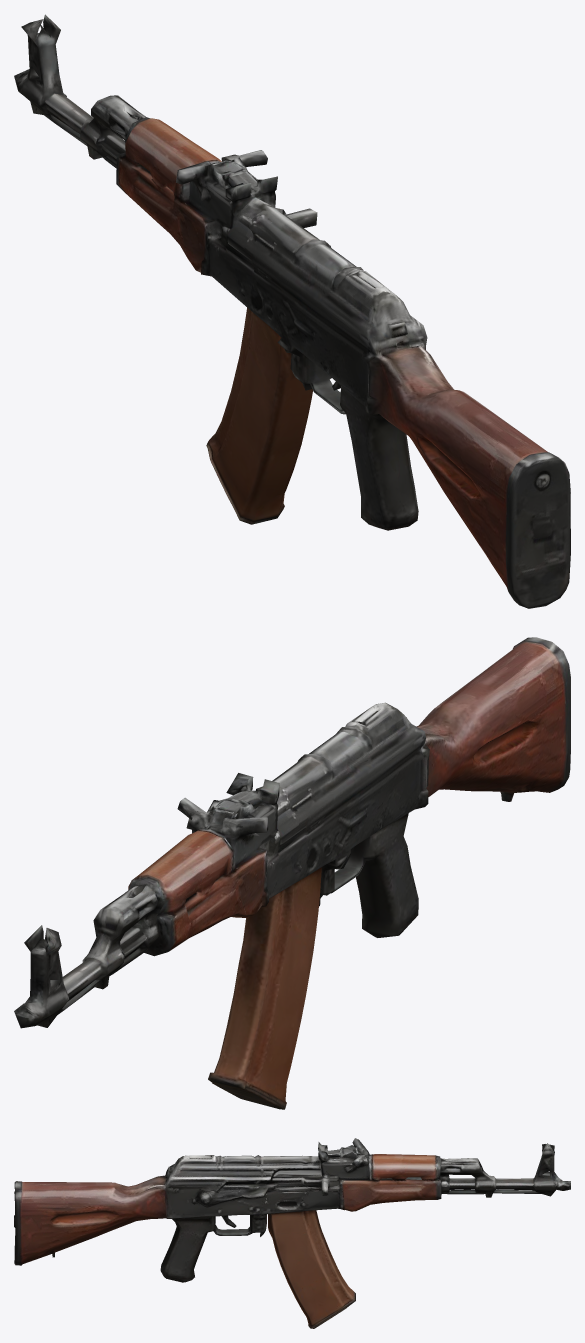
3 renders of one model, top to bottom at view 1: azimuth 30°, elevation 25°; view 2: azimuth 150°, elevation 25°; view 3: azimuth 270°, elevation 25°, orthographic. The views are drawn at different scales.
Visible parts, largest first — view 1: tripo_node_fa2cbc57-d115-4097-b04a-359512a141b4; view 2: tripo_node_fa2cbc57-d115-4097-b04a-359512a141b4; view 3: tripo_node_fa2cbc57-d115-4097-b04a-359512a141b4.
Part boxes in pixels (bbox=[...]): tripo_node_fa2cbc57-d115-4097-b04a-359512a141b4: bbox=[14, 14, 570, 608]; tripo_node_fa2cbc57-d115-4097-b04a-359512a141b4: bbox=[14, 637, 570, 1109]; tripo_node_fa2cbc57-d115-4097-b04a-359512a141b4: bbox=[14, 1138, 570, 1328].
Bounding box in the file's own units: 0.1194 × 0.3629 × 1.
1 material, 1 textured.
